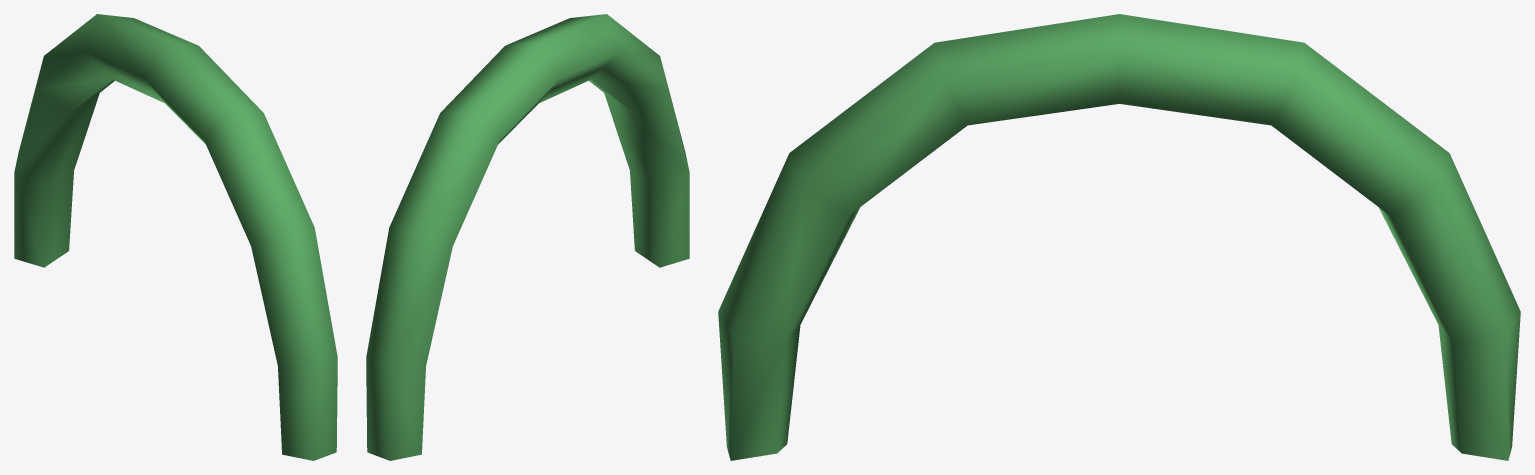
File: SPipeI_1.fbx
3 renders of one model, left to right at view 1: azimuth 30°, elevation 25°; view 2: azimuth 150°, elevation 25°; view 3: azimuth 270°, elevation 25°, orthographic. The views are drawn at different scales.
Parts seen in each view (by area): view 1: SPipeI_1; view 2: SPipeI_1; view 3: SPipeI_1.
Boxes of the visible parts, bbox=[...] form: SPipeI_1: bbox=[14, 14, 337, 460]; SPipeI_1: bbox=[366, 14, 689, 460]; SPipeI_1: bbox=[718, 14, 1520, 460].
Size of the model in its own units: 9.87 by 53.58 by 90.75.
